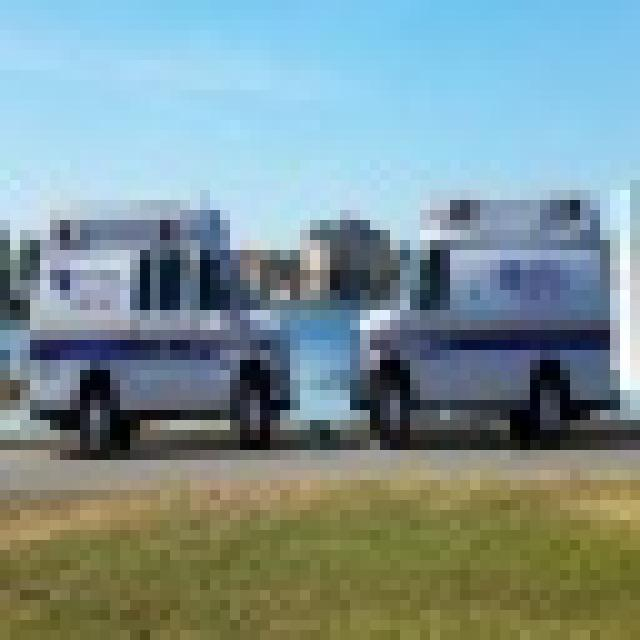Ambulance: (20, 190, 290, 450)
